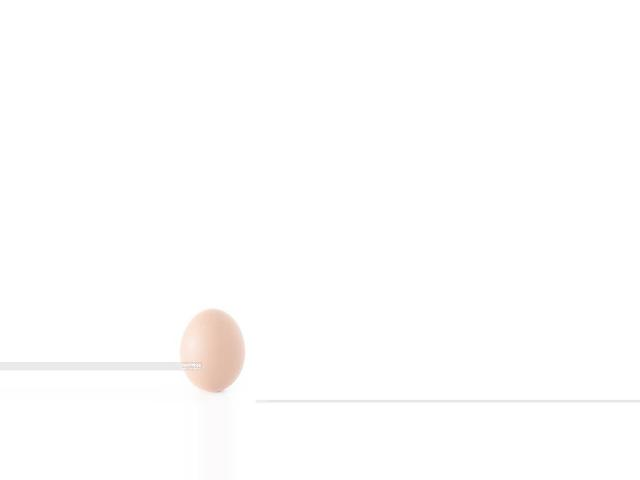egg: (179, 308, 244, 390)
